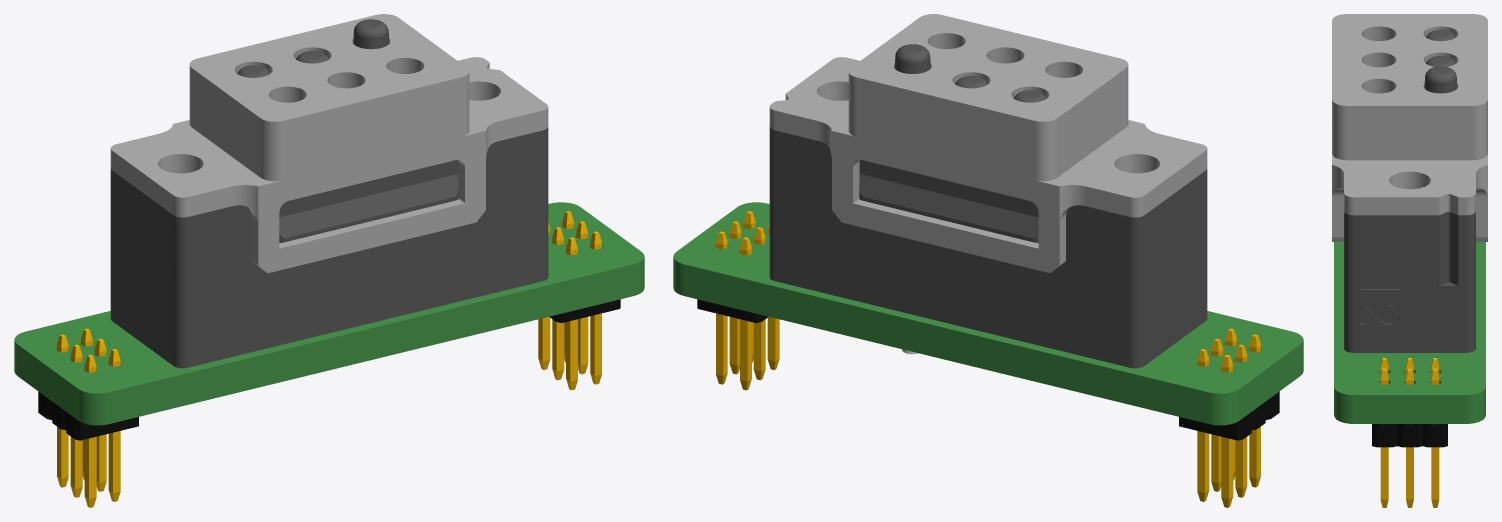
The model's file is Braille V3.glb.
The picture shows the model from 3 angles, left to right: view 1: azimuth 30°, elevation 25°; view 2: azimuth 150°, elevation 25°; view 3: azimuth 270°, elevation 25°; orthographic projection. The views are drawn at different scales.
Parts seen in each view (by area): view 1: Braille V3; view 2: Braille V3; view 3: Braille V3.
Part boxes in pixels (bbox=[...]): Braille V3: bbox=[14, 14, 644, 507]; Braille V3: bbox=[673, 14, 1303, 507]; Braille V3: bbox=[1332, 14, 1487, 507].
Size of the model in its own units: 2.97 by 1.94 by 0.78.
